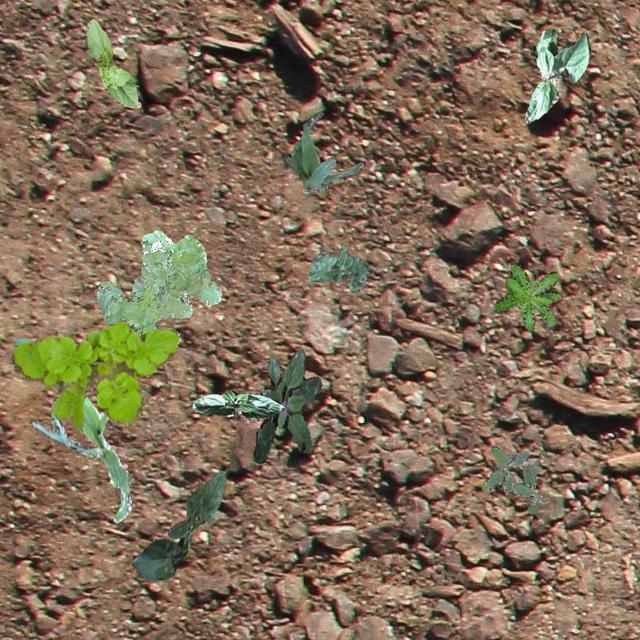crop: (12, 336, 130, 522), (130, 470, 224, 580), (280, 110, 362, 192), (524, 28, 590, 122), (84, 18, 140, 108), (192, 388, 284, 419), (306, 246, 368, 290)
weed: (11, 318, 178, 428), (96, 228, 220, 334), (252, 348, 320, 462), (492, 262, 560, 330), (482, 444, 548, 512)
